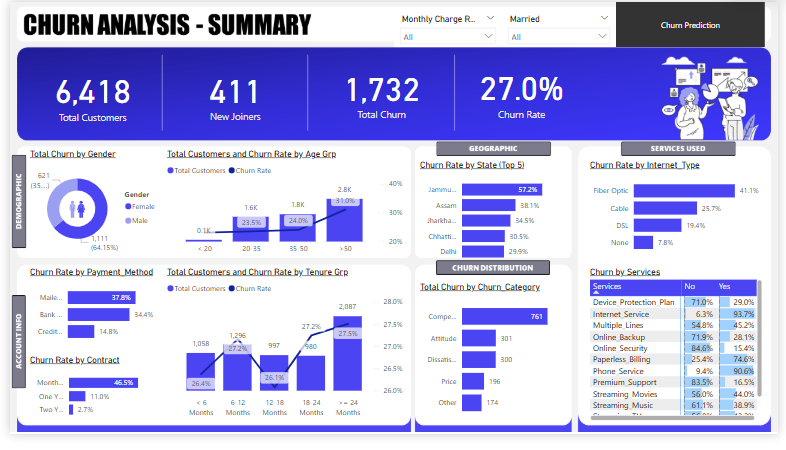

This screenshot's page, from the dashboard's own definition file:
{"tool":"powerbi","page":{"name":"Summary","canvas":[1280,720],"ordinal":0},"visuals":[{"type":"image","box":[67.1,321.4,90,47.1],"z":0},{"type":"card","fields":{"Values":["tbl_Measures.Total Customers"]},"box":[28.6,85.7,218.6,137.1],"z":1000},{"type":"card","fields":{"Values":["tbl_Measures.Total Churn"]},"box":[494.3,78.6,248.6,141.4],"z":2000},{"type":"donutChart","fields":{"Category":["prod_Churn.Gender"],"Y":["tbl_Measures.Total Churn"]},"box":[28.6,244.3,228.6,182.9],"z":3000},{"type":"lineStackedColumnComboChart","fields":{"Category":["mapping_Age Group.Age Grp"],"Y":["tbl_Measures.Total Customers"],"Y2":["tbl_Measures.Churn Rate"]},"box":[257.1,244.3,402.9,184.3],"z":4000},{"type":"clusteredBarChart","fields":{"Category":["prod_Churn.Payment_Method"],"Y":["tbl_Measures.Churn Rate"]},"box":[28.6,441.4,218.6,135.7],"z":5000},{"type":"clusteredBarChart","fields":{"Category":["prod_Churn.Contract"],"Y":["tbl_Measures.Churn Rate"]},"box":[28.6,588.6,228.6,114.3],"z":6000},{"type":"lineStackedColumnComboChart","fields":{"Category":["mapping_Tenure Grp.Tenure Grp"],"Y":["tbl_Measures.Total Customers"],"Y2":["tbl_Measures.Churn Rate"]},"box":[257.1,441.4,402.9,257.1],"z":7000},{"type":"clusteredBarChart","title":"Churn Rate by State (Top 5)","fields":{"Category":["prod_Churn.State"],"Y":["tbl_Measures.Churn Rate"]},"box":[678.6,262.9,247.1,178.6],"z":8000},{"type":"clusteredBarChart","fields":{"Category":["prod_Churn.Churn_Category"],"Y":["tbl_Measures.Total Churn"]},"box":[678.6,467.1,247.1,235.7],"z":9000},{"type":"clusteredBarChart","fields":{"Category":["prod_Churn.Internet_Type"],"Y":["tbl_Measures.Churn Rate"]},"box":[961.4,262.9,297.1,165.7],"z":10000},{"type":"pivotTable","title":"Churn by Services","fields":{"Rows":["prod_Services.Services"],"Columns":["prod_Services.Status"],"Values":["Sum(prod_Services.Churn Status)"]},"box":[961.4,441.4,297.1,261.4],"z":11000},{"type":"slicer","fields":{"Values":["prod_Services.Monthly Charge Status"]},"box":[640,14.3,180,60],"z":12000},{"type":"slicer","fields":{"Values":["prod_Services.Married"]},"box":[820,14.3,190,60],"z":13000},{"type":"card","fields":{"Values":["tbl_Measures.New Joiners"]},"box":[257.1,85.7,237.1,134.3],"z":14000},{"type":"card","fields":{"Values":["tbl_Measures.Churn Rate"]},"box":[742.9,72.9,218.6,150],"z":15000},{"type":"shape","box":[1010,0,248.3,75],"z":15001}]}

Visuals, with their boxes in screenshot pixels (x1, y1, x2, y2), scaled from the page's 1280x720 canvas onto the 786x450 screenshot:
image: (x1=41, y1=201, x2=96, y2=230)
card - tbl_Measures.Total Customers: (x1=18, y1=54, x2=152, y2=139)
card - tbl_Measures.Total Churn: (x1=304, y1=49, x2=456, y2=138)
donutChart - prod_Churn.Gender x tbl_Measures.Total Churn: (x1=18, y1=153, x2=158, y2=267)
lineStackedColumnComboChart - mapping_Age Group.Age Grp x tbl_Measures.Total Customers: (x1=158, y1=153, x2=405, y2=268)
clusteredBarChart - prod_Churn.Payment_Method x tbl_Measures.Churn Rate: (x1=18, y1=276, x2=152, y2=361)
clusteredBarChart - prod_Churn.Contract x tbl_Measures.Churn Rate: (x1=18, y1=368, x2=158, y2=439)
lineStackedColumnComboChart - mapping_Tenure Grp.Tenure Grp x tbl_Measures.Total Customers: (x1=158, y1=276, x2=405, y2=437)
"Churn Rate by State (Top 5)" clusteredBarChart: (x1=417, y1=164, x2=568, y2=276)
clusteredBarChart - prod_Churn.Churn_Category x tbl_Measures.Total Churn: (x1=417, y1=292, x2=568, y2=439)
clusteredBarChart - prod_Churn.Internet_Type x tbl_Measures.Churn Rate: (x1=590, y1=164, x2=773, y2=268)
"Churn by Services" pivotTable: (x1=590, y1=276, x2=773, y2=439)
slicer - prod_Services.Monthly Charge Status: (x1=393, y1=9, x2=504, y2=46)
slicer - prod_Services.Married: (x1=504, y1=9, x2=620, y2=46)
card - tbl_Measures.New Joiners: (x1=158, y1=54, x2=303, y2=138)
card - tbl_Measures.Churn Rate: (x1=456, y1=46, x2=590, y2=139)
shape: (x1=620, y1=0, x2=773, y2=47)
